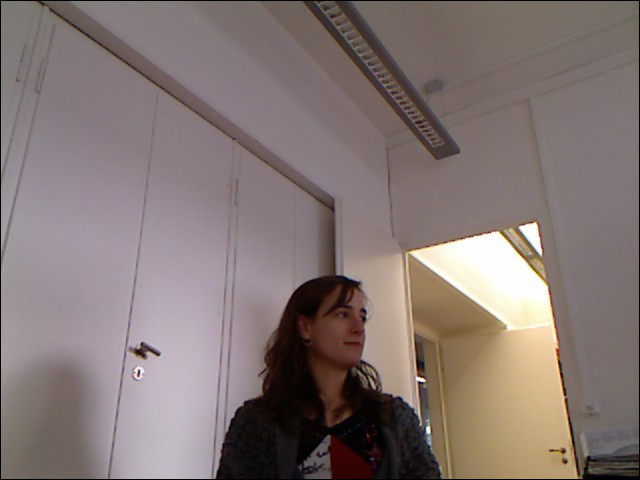deflection: (226, 275, 431, 457)
